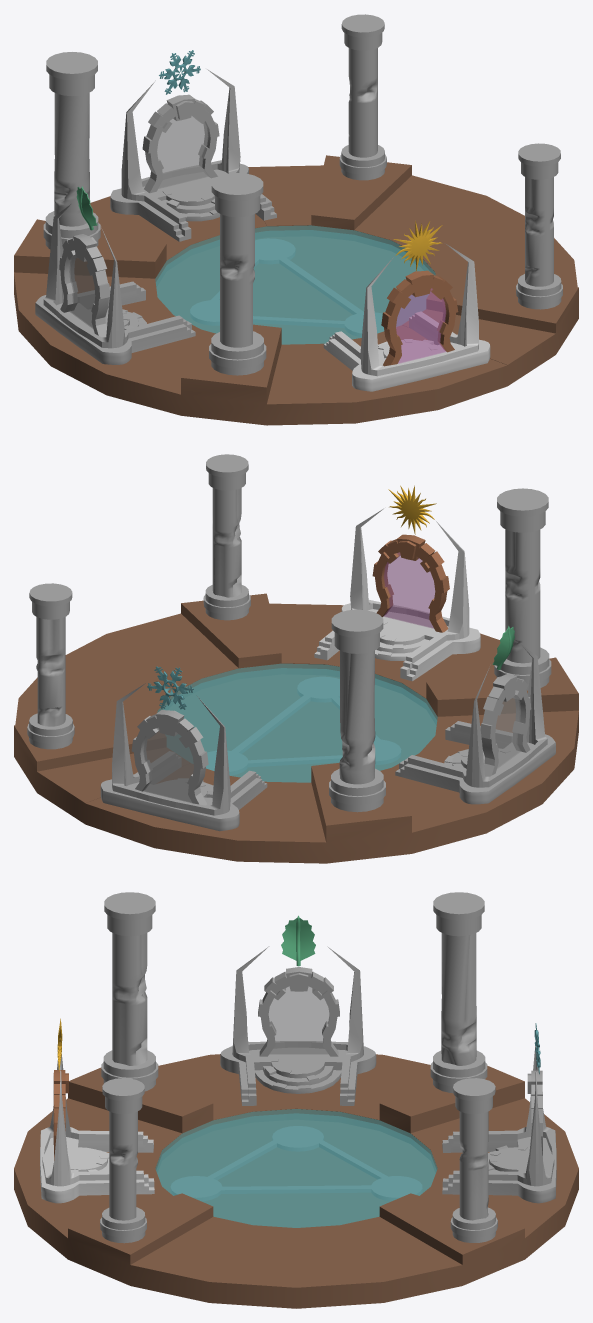
File: HubPortals.fbx
3 views of the same model, one above another, from view 1: azimuth 30°, elevation 25°; view 2: azimuth 150°, elevation 25°; view 3: azimuth 270°, elevation 25° (orthographic).
Visible parts, largest first — view 1: Ground, Glass, SummerPortalBase, Pillar1, WinterPortalBase, SpringPortalBase, Pillar2, Pillar4, Pillar3, WinterPortal, SummerPortal, WinterPortalInside (+7 smaller); view 2: Ground, Glass, Pillar2, WinterPortalBase, SummerPortalBase, SpringPortalBase, Pillar1, Pillar3, Pillar4, SummerPortal, WinterPortal, SummerPortalInside (+8 smaller); view 3: Ground, Glass, SpringPortalBase, Pillar2, Pillar1, SummerPortalBase, WinterPortalBase, Pillar4, Pillar3, SpringPortalInside, SpringPortal, SpringTriangle (+5 smaller).
Boxes of the visible parts, <box> form: Ground: <box>14,155,578,425</box>; Glass: <box>155,225,435,344</box>; SummerPortalBase: <box>323,244,490,391</box>; Pillar1: <box>209,173,266,375</box>; WinterPortalBase: <box>110,69,276,241</box>; SpringPortalBase: <box>35,204,195,364</box>; Pillar2: <box>43,52,100,251</box>; Pillar4: <box>339,14,386,180</box>; Pillar3: <box>516,143,562,309</box>; WinterPortal: <box>142,94,219,193</box>; SummerPortal: <box>381,270,458,366</box>; WinterPortalInside: <box>157,112,208,188</box>; Ground: <box>14,593,578,863</box>; Glass: <box>157,663,437,782</box>; Pillar2: <box>329,609,385,812</box>; WinterPortalBase: <box>100,683,267,831</box>; SummerPortalBase: <box>314,508,480,681</box>; SpringPortalBase: <box>395,643,555,804</box>; Pillar1: <box>494,488,551,690</box>; Pillar3: <box>203,454,250,620</box>; Pillar4: <box>27,583,74,749</box>; SummerPortal: <box>372,534,449,632</box>; WinterPortal: <box>131,710,208,805</box>; SummerPortalInside: <box>383,552,435,628</box>; Ground: <box>14,1054,578,1308</box>; Glass: <box>155,1109,437,1227</box>; SpringPortalBase: <box>220,946,376,1105</box>; Pillar2: <box>430,892,487,1093</box>; Pillar1: <box>101,892,158,1091</box>; SummerPortalBase: <box>40,1054,154,1203</box>; WinterPortalBase: <box>442,1046,556,1203</box>; Pillar4: <box>450,1078,497,1242</box>; Pillar3: <box>100,1078,146,1243</box>; SpringPortalInside: <box>268,986,329,1054</box>; SpringPortal: <box>258,967,339,1056</box>; SpringTriangle: <box>208,1126,392,1180</box>.
Bounding box in the file's own units: 119 × 50.24 × 119.
